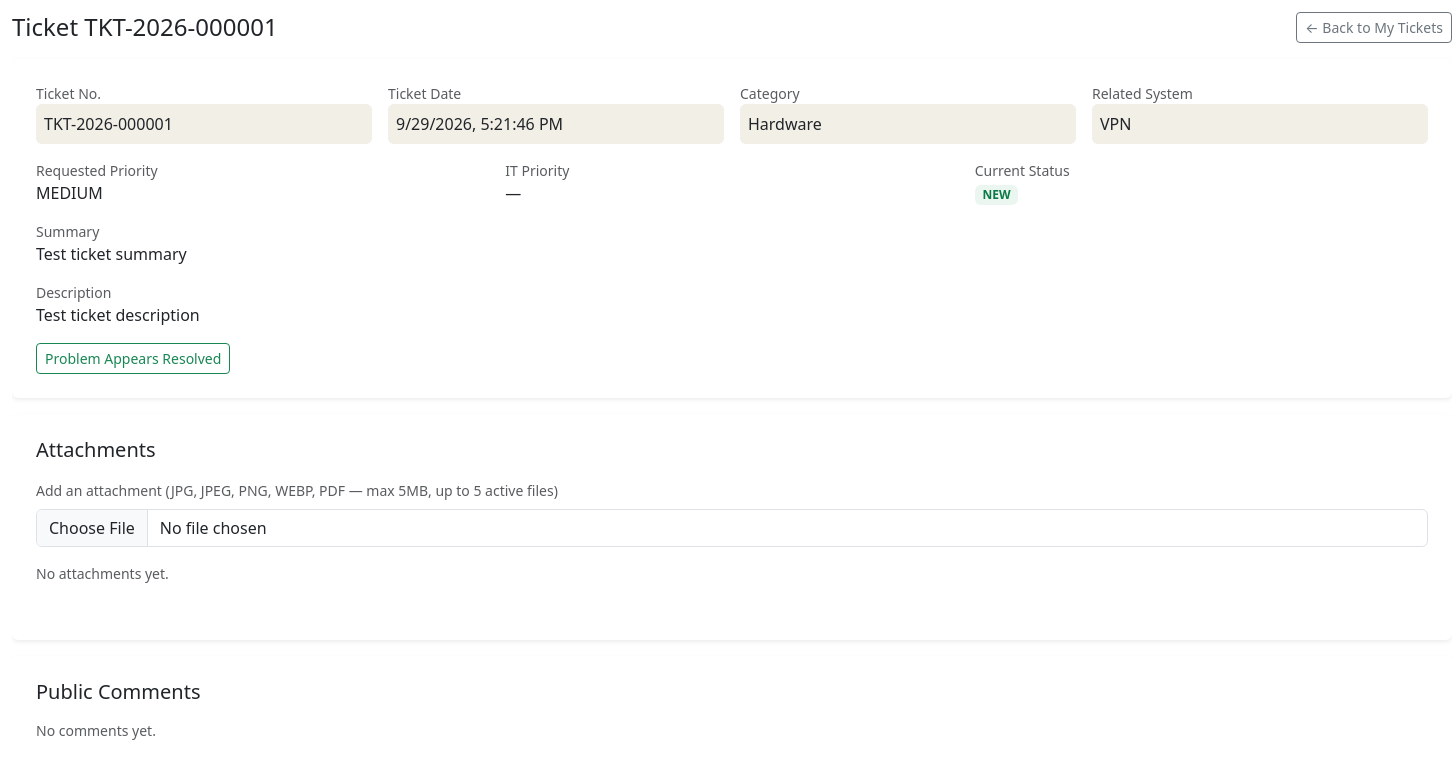
Test: TicketDetail › shows the appears-resolved badge instead of the action button once confirmed
Click the button "Problem Appears Resolved" at (133,359), box [36,343,230,374]
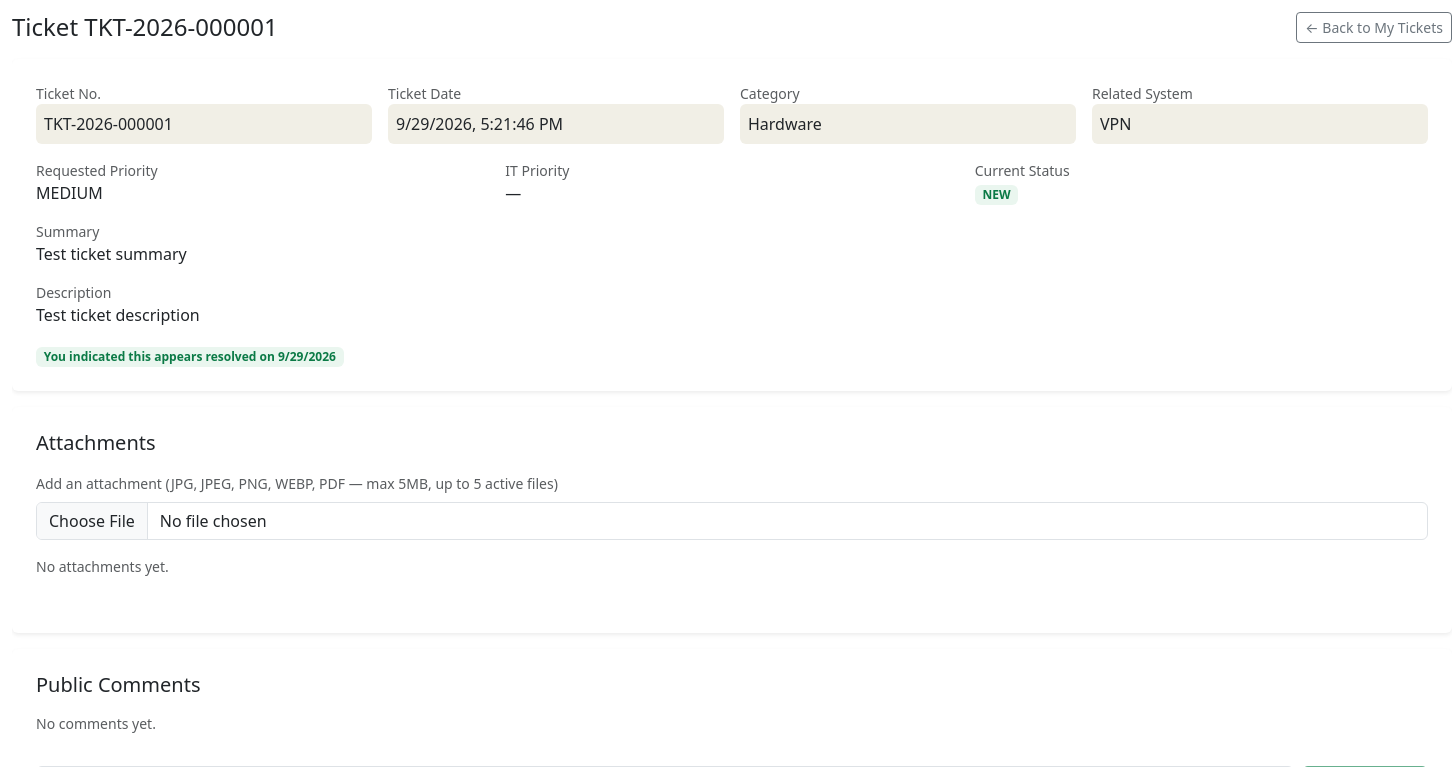
Expected: the text "You indicated this appears resolved on 9/29/2026" is shown, [36,347,344,367]
Expected: the button "Problem Appears Resolved" is gone
